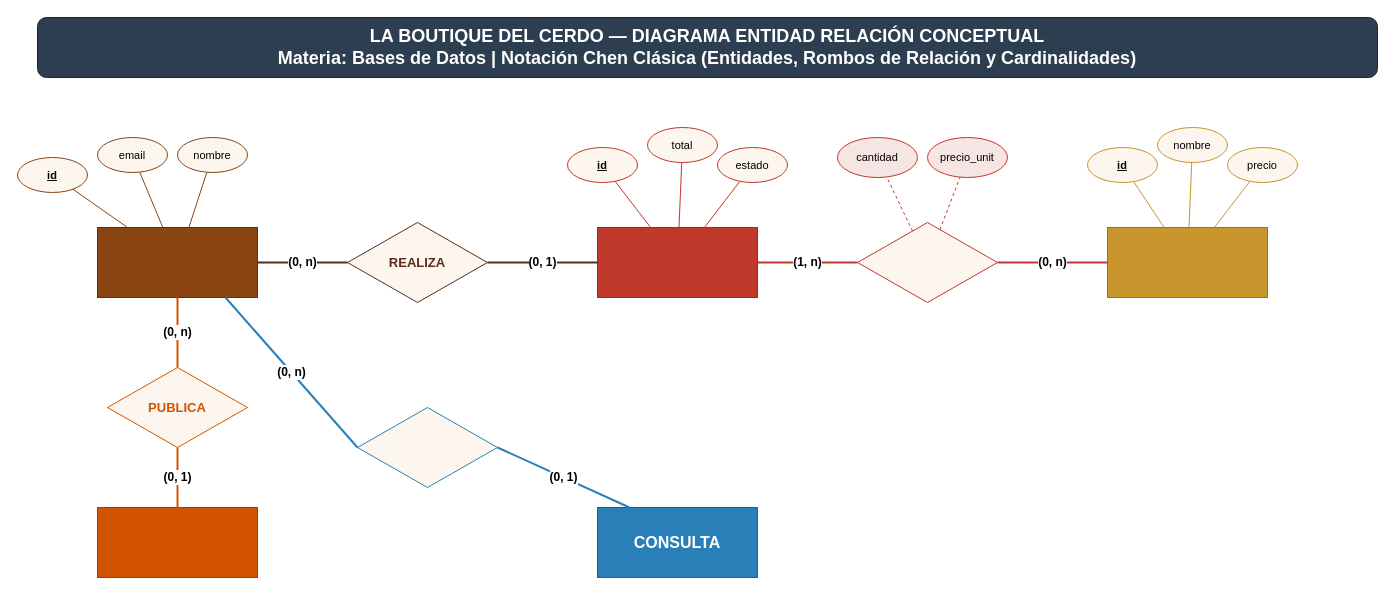
Image size: 1395x595. Some labels were removed from this diagram. The box of each missing label's shape, as (x1, y1, x2, y2) in pixels:
COMENTARIO: (96, 506, 258, 578)
CONTIENE (Detalle): (856, 222, 998, 302)
ENVÍA: (356, 406, 498, 488)
PEDIDO: (596, 226, 758, 298)
PRODUCTO: (1106, 226, 1268, 298)
USUARIO: (96, 226, 258, 298)
